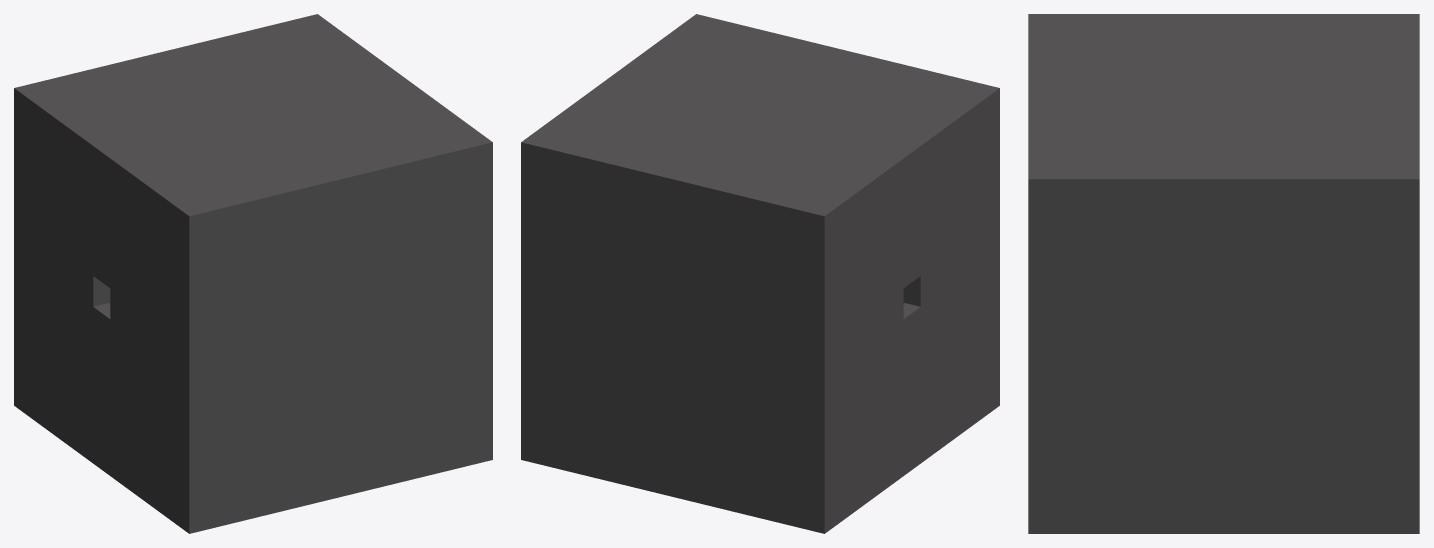
The model's file is Dock.obj.
The picture shows the model from 3 angles, left to right: view 1: azimuth 30°, elevation 25°; view 2: azimuth 150°, elevation 25°; view 3: azimuth 270°, elevation 25°; orthographic projection. The views are drawn at different scales.
Parts seen in each view (by area): view 1: 立方体.001; view 2: 立方体.001; view 3: 立方体.001.
Part boxes in pixels (x1,y1,x2,y2): 立方体.001: (14,14,492,533); 立方体.001: (521,14,999,533); 立方体.001: (1028,14,1419,533).
Size of the model in its own units: 20.57 by 20.57 by 20.57.
1 material, 1 textured.
